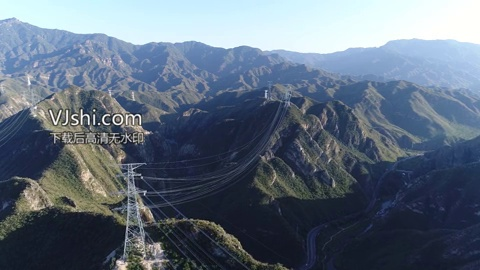tower_body: (109, 157, 158, 258)
tower_head: (112, 161, 153, 180)
